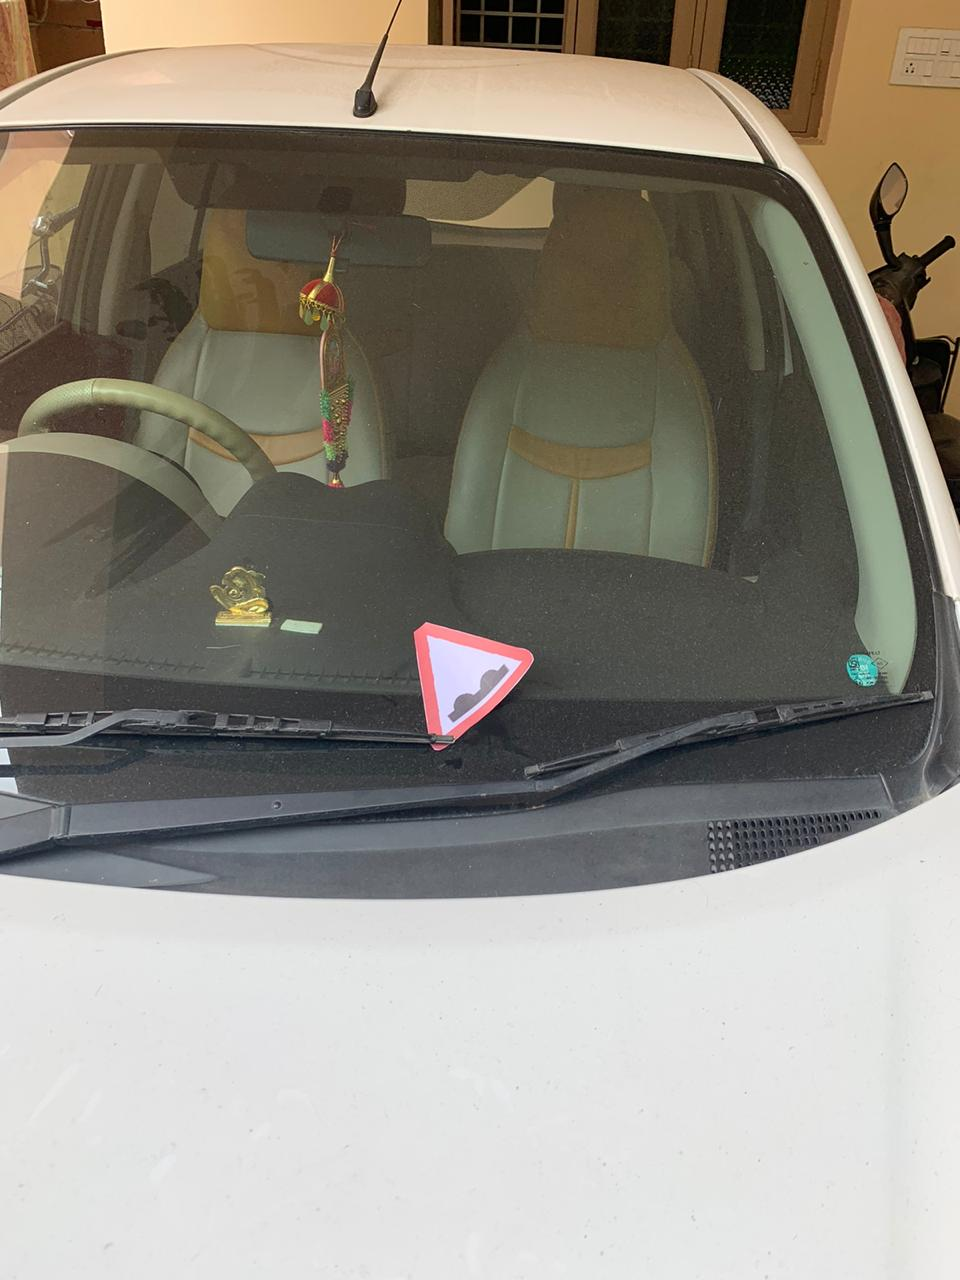UNEVEN ROAD: (341, 569, 559, 763)
